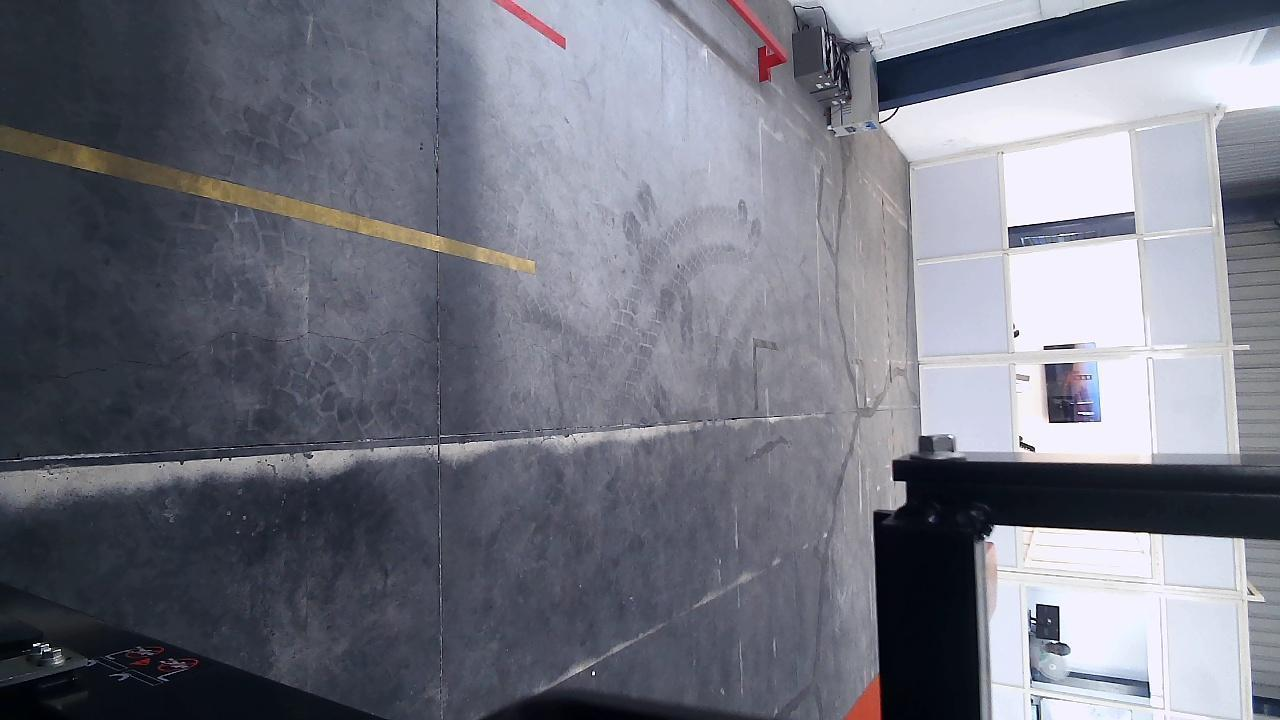yellow_line: (2, 128, 536, 271)
